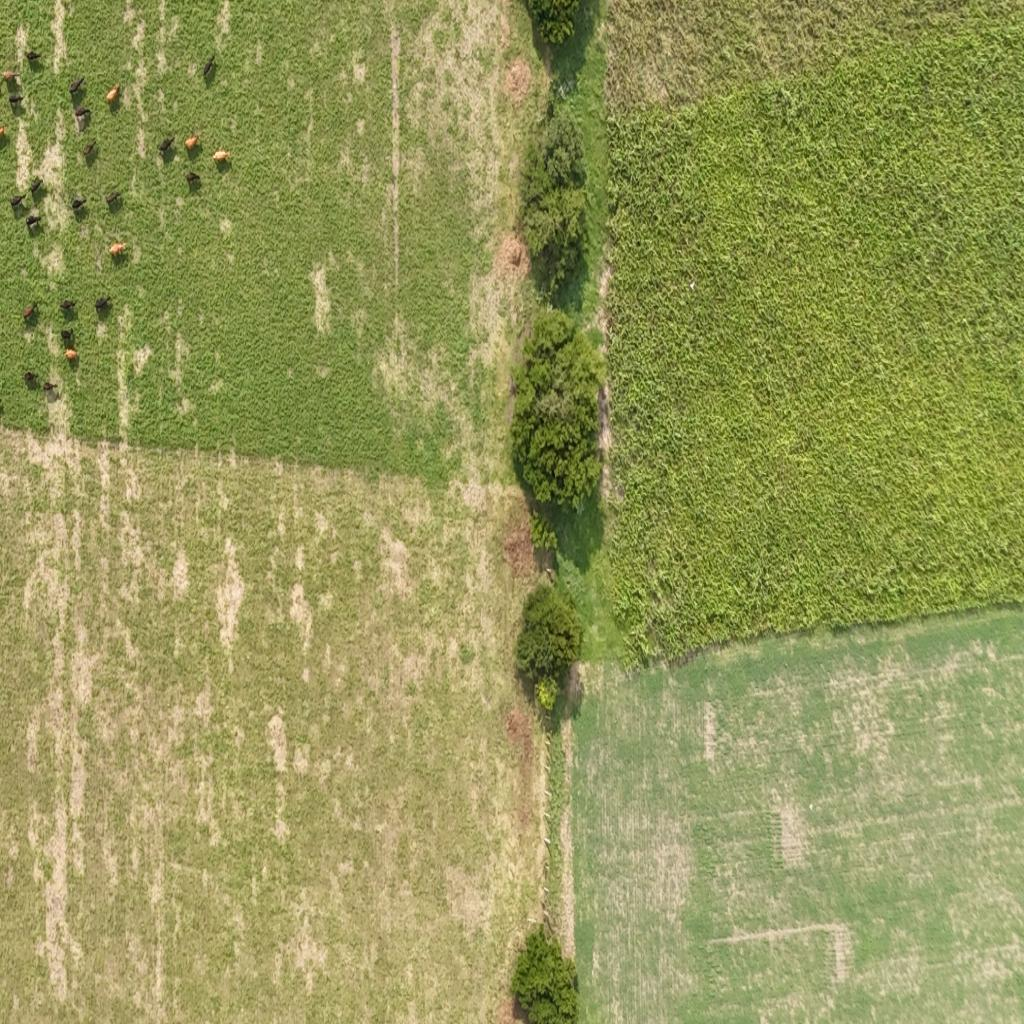cow: (95, 293, 111, 314), (69, 76, 85, 96), (158, 137, 174, 155), (106, 190, 122, 208), (71, 194, 86, 212), (26, 213, 41, 231), (10, 193, 25, 211), (60, 327, 74, 346), (30, 176, 44, 195), (203, 56, 215, 78), (213, 149, 231, 163), (106, 84, 120, 102), (22, 303, 36, 321), (185, 170, 200, 186), (60, 299, 76, 314), (9, 93, 22, 111), (184, 135, 200, 149), (43, 381, 59, 395), (26, 50, 42, 64), (83, 141, 96, 158), (110, 242, 126, 255), (24, 371, 38, 385), (74, 105, 88, 119), (2, 70, 18, 82), (65, 347, 77, 361), (0, 127, 7, 141)
